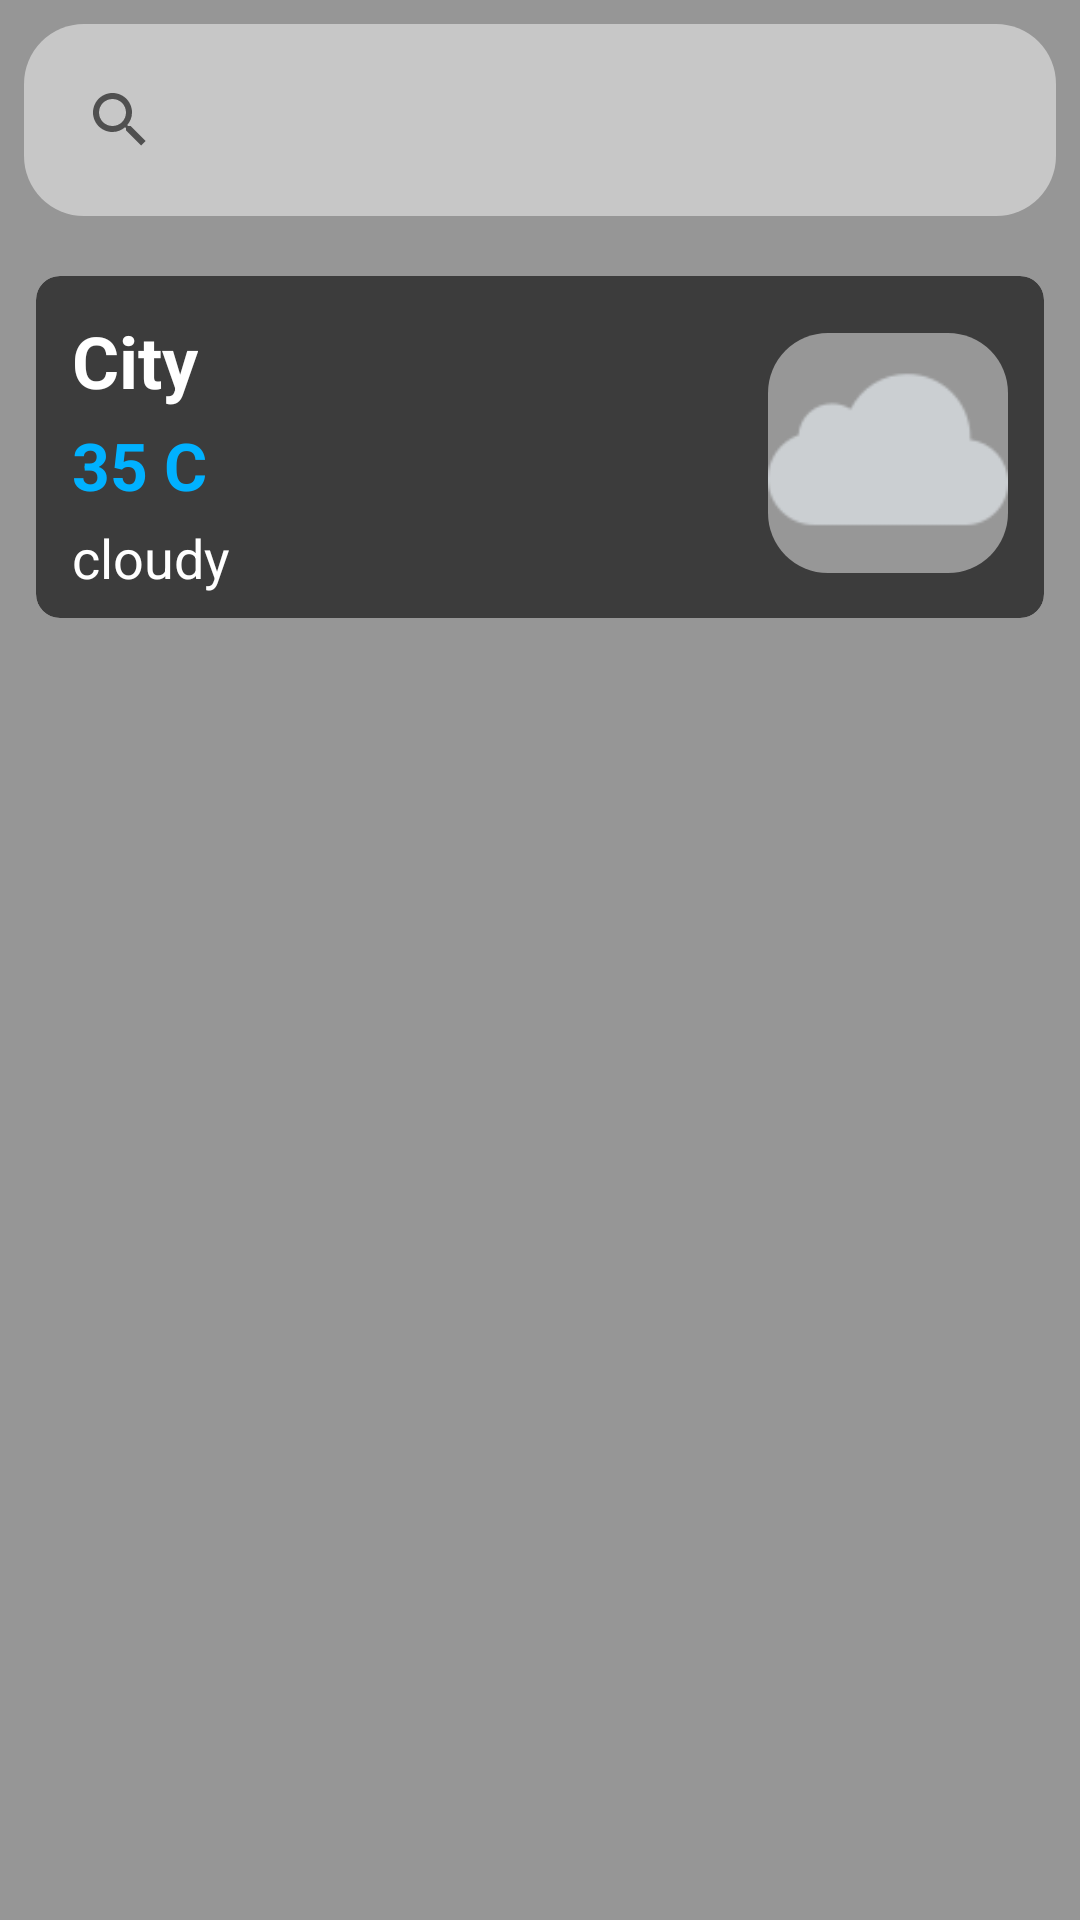

Icon bounding boxes for this 1080px x 1920px phone screenshot, format (x1, y1, x2, y2):
cloudy: (768, 333, 1008, 573)
